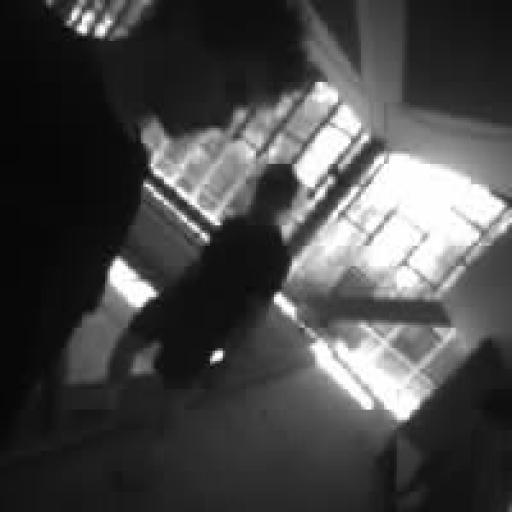human: (0, 0, 309, 442), (103, 164, 299, 486), (105, 164, 299, 401)
